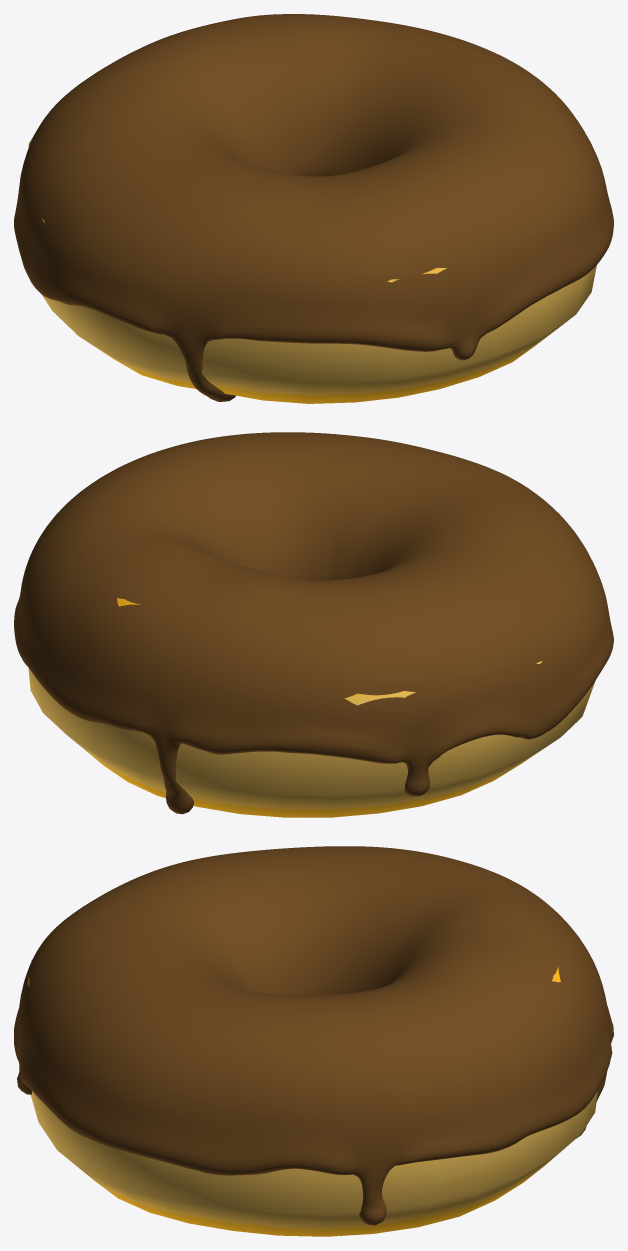
The model's file is donut3.glb.
The picture shows the model from 3 angles, top to bottom: view 1: azimuth 30°, elevation 25°; view 2: azimuth 150°, elevation 25°; view 3: azimuth 270°, elevation 25°; orthographic projection. The views are drawn at different scales.
Parts seen in each view (by area): view 1: Icing.003, Donut.003; view 2: Icing.003, Donut.003; view 3: Icing.003, Donut.003.
Boxes of the visible parts, x1,y1,x2,y2 form: Icing.003: [14, 14, 613, 401]; Donut.003: [28, 15, 596, 403]; Icing.003: [14, 432, 613, 814]; Donut.003: [28, 598, 595, 817]; Icing.003: [14, 846, 613, 1225]; Donut.003: [27, 959, 597, 1236].
Size of the model in its own units: 0.123 by 0.05 by 0.121.
2 materials, 1 textured.
